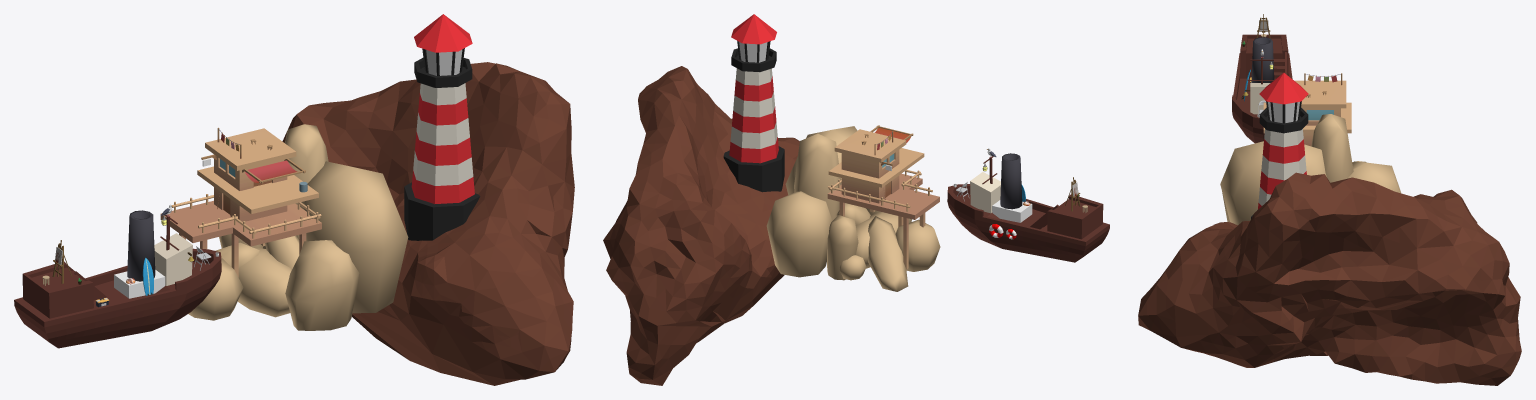
3 views of the same model, side by side, from view 1: azimuth 30°, elevation 25°; view 2: azimuth 150°, elevation 25°; view 3: azimuth 270°, elevation 25° (orthographic). The views are drawn at different scales.
Parts seen in each view (by area): view 1: Back Mountain, Beachhouse, Lighthouse, Ship_Body, pCube31, pCube32, pCube42, pCube30, Funnel, pCube41, Cabin, pCube49 (+2 smaller); view 2: Back Mountain, Lighthouse, Beachhouse, Ship_Body, pCube29, pCube30, pCube48, pCube41, pCube33, Funnel, Cabin, pCube42 (+3 smaller); view 3: Back Mountain, Lighthouse, pCube31, Ship_Body, Beachhouse, pCube30, pCube29, Funnel, Cabin.
Boxes of the visible parts, bbox=[...] form: Back Mountain: bbox=[282, 62, 574, 385]; Beachhouse: bbox=[160, 127, 321, 277]; Lighthouse: bbox=[404, 14, 480, 240]; Ship_Body: bbox=[14, 215, 221, 348]; pCube31: bbox=[298, 161, 408, 313]; pCube32: bbox=[285, 240, 359, 330]; pCube42: bbox=[228, 246, 291, 317]; pCube30: bbox=[285, 124, 328, 239]; Funnel: bbox=[127, 210, 155, 281]; pCube41: bbox=[188, 258, 243, 320]; Cabin: bbox=[154, 233, 192, 285]; pCube49: bbox=[265, 235, 299, 270]; Back Mountain: bbox=[603, 66, 799, 385]; Lighthouse: bbox=[723, 14, 784, 192]; Beachhouse: bbox=[827, 125, 939, 269]; Ship_Body: bbox=[947, 156, 1109, 262]; pCube29: bbox=[766, 191, 832, 277]; pCube30: bbox=[794, 133, 841, 220]; pCube48: bbox=[868, 216, 908, 291]; pCube41: bbox=[895, 219, 940, 271]; pCube33: bbox=[827, 215, 858, 280]; Funnel: bbox=[1000, 153, 1022, 209]; Cabin: bbox=[970, 172, 1000, 213]; pCube42: bbox=[855, 211, 898, 268]; Back Mountain: bbox=[1138, 172, 1521, 385]; Lighthouse: bbox=[1251, 73, 1308, 218]; pCube31: bbox=[1220, 141, 1326, 225]; Ship_Body: bbox=[1232, 34, 1292, 143]; Beachhouse: bbox=[1263, 73, 1351, 146]; pCube30: bbox=[1311, 114, 1353, 182]; pCube29: bbox=[1348, 161, 1400, 193]; Funnel: bbox=[1251, 37, 1274, 82]; Cabin: bbox=[1250, 83, 1270, 114].
Bounding box in the file's own units: 8.25 × 5.39 × 6.08.
Materials: 7 (2 with a texture image).
